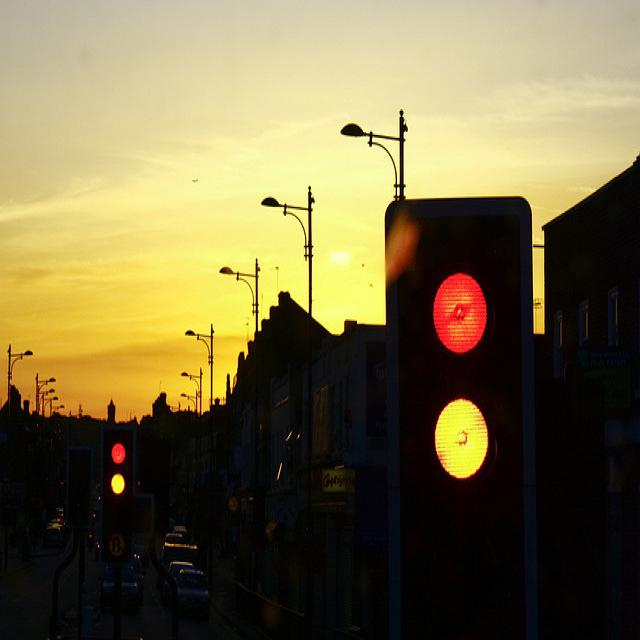car: (162, 527, 223, 623), (100, 535, 157, 635), (77, 472, 126, 560), (152, 492, 202, 571)
